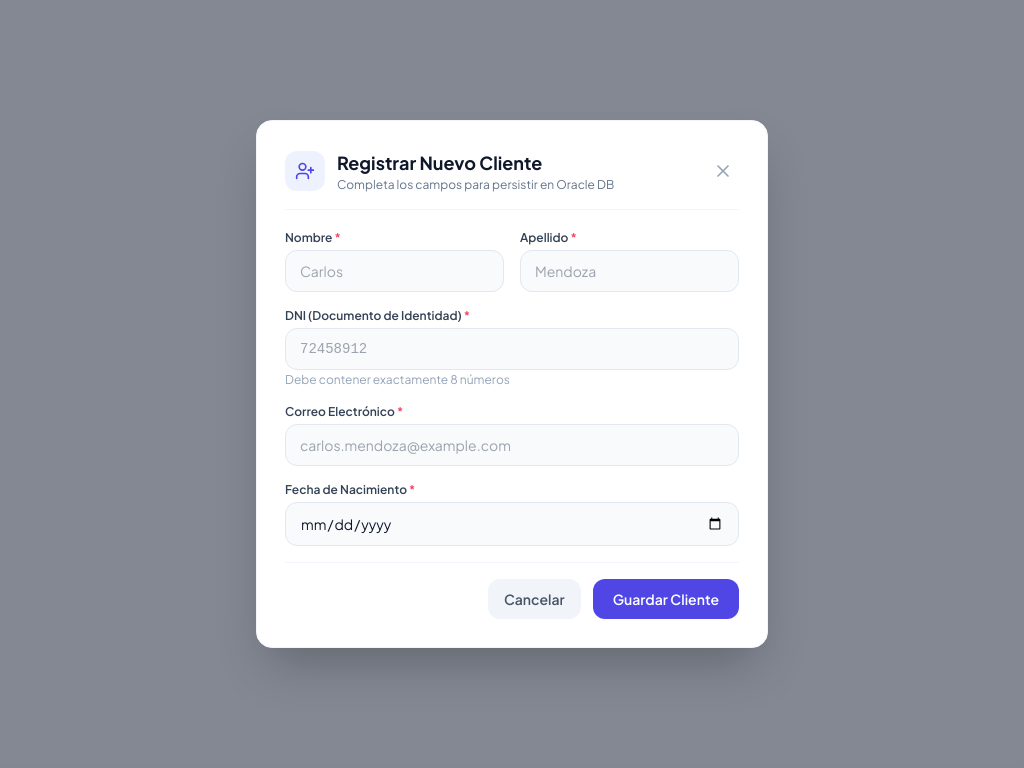
Test: CustomerCreateModal Component › debe mostrar los campos requeridos y validar errores al enviar vacío
This screenshot has width=1024, height=768.
Expected: the heading "Registrar Nuevo Cliente" is shown, [337,151,542,174]
Click the button "Guardar Cliente". click: (666, 599)
box: [593,579,739,619]
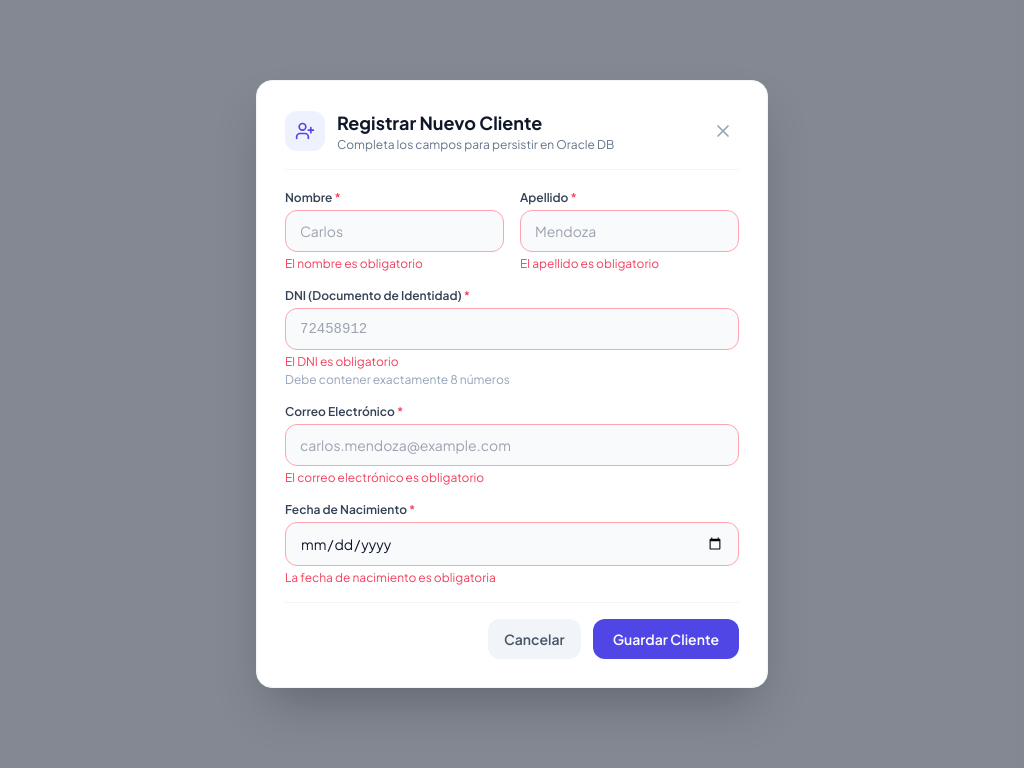
Expected: the text "El nombre es obligatorio" is shown, [285,256,423,271]
Expected: the text "El apellido es obligatorio" is shown, [520,256,659,271]
Expected: the text "El correo electrónico es obligatorio" is shown, [285,470,484,485]
